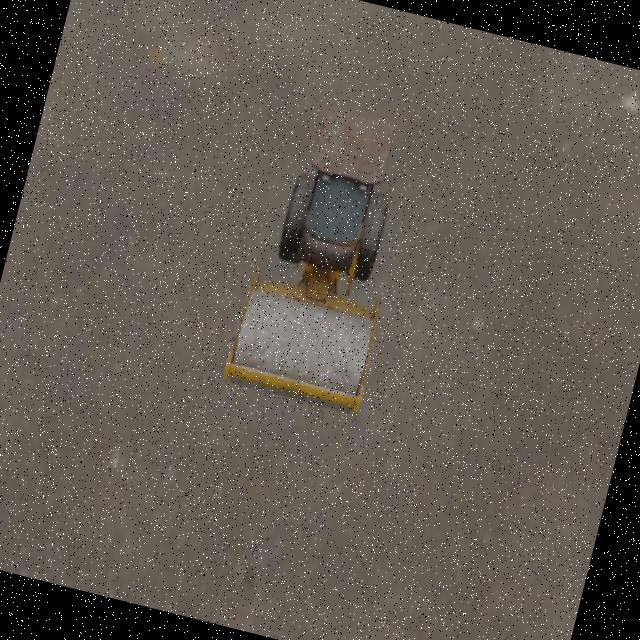Roller: (220, 92, 429, 417)
